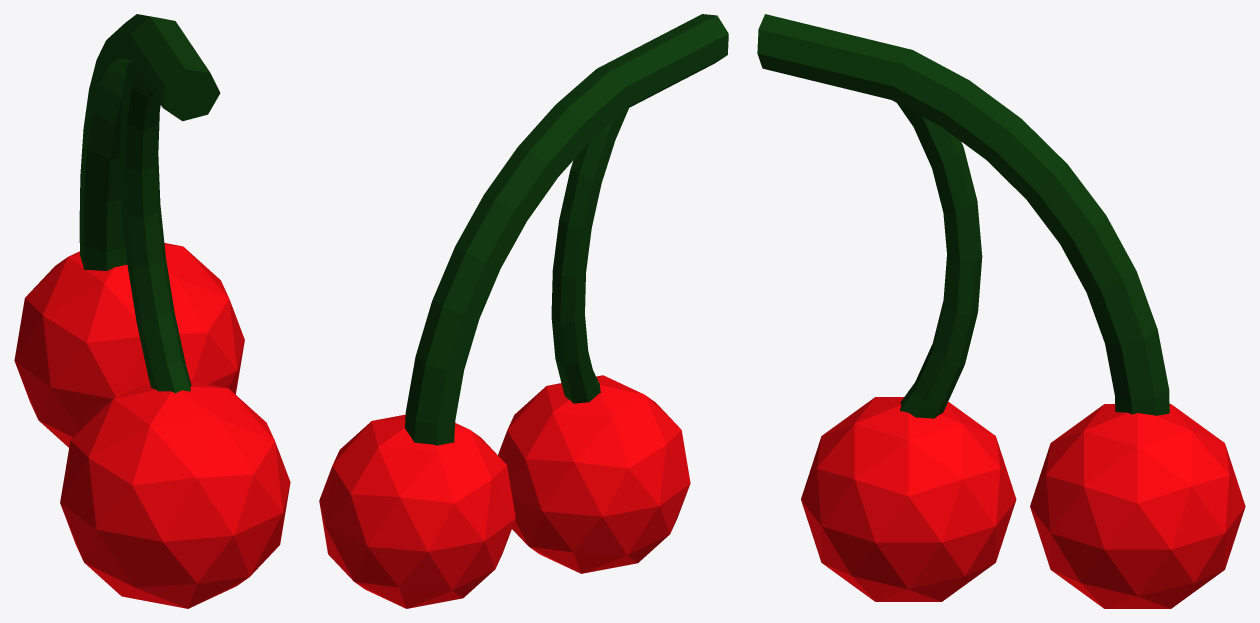
File: Cherry_v.1.5.fbx
3 views of the same model, side by side, from view 1: azimuth 30°, elevation 25°; view 2: azimuth 150°, elevation 25°; view 3: azimuth 270°, elevation 25° (orthographic). The views are drawn at different scales.
Visible parts, largest first — view 1: Icosphere; view 2: Icosphere; view 3: Icosphere.
Boxes of the visible parts, x1=… form: Icosphere: x1=14, y1=14, x2=290, y2=608; Icosphere: x1=319, y1=14, x2=728, y2=608; Icosphere: x1=757, y1=14, x2=1245, y2=608.
Bounding box in the file's own units: 268 × 566 × 453.
